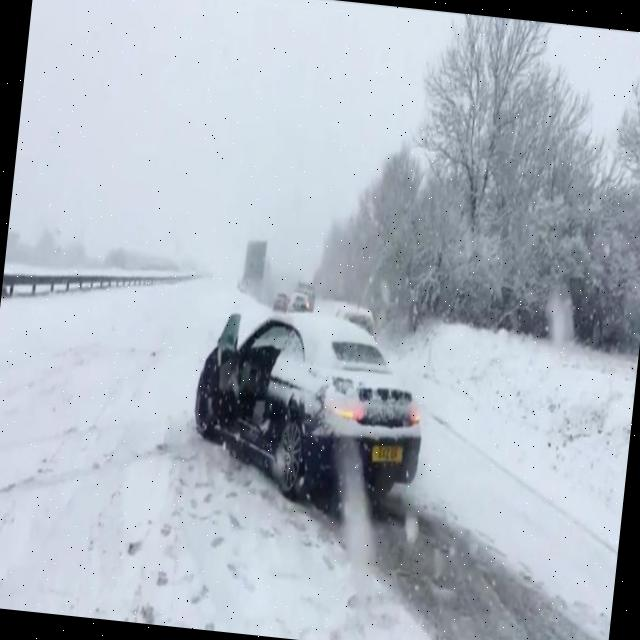car: (188, 295, 432, 508), (284, 295, 310, 319)
